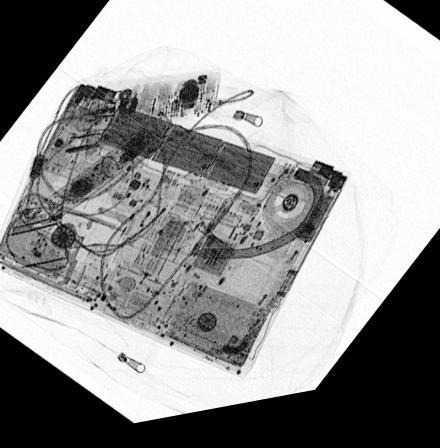Baton: (44, 114, 176, 225)
